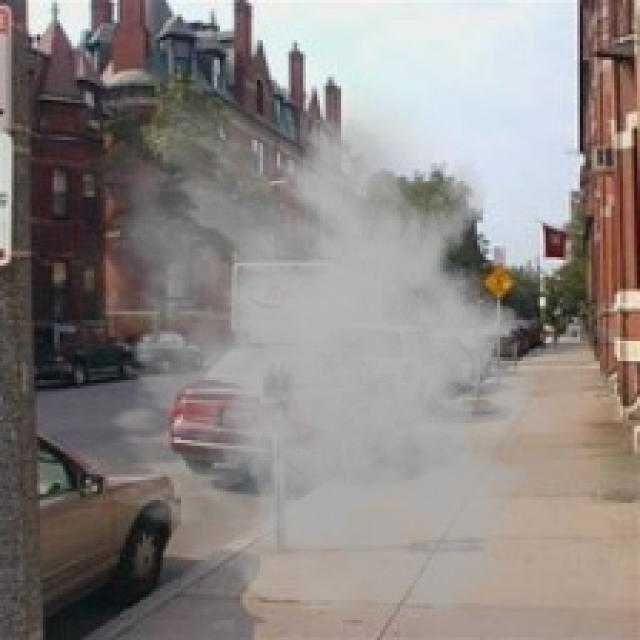smoke: (51, 66, 572, 623)
